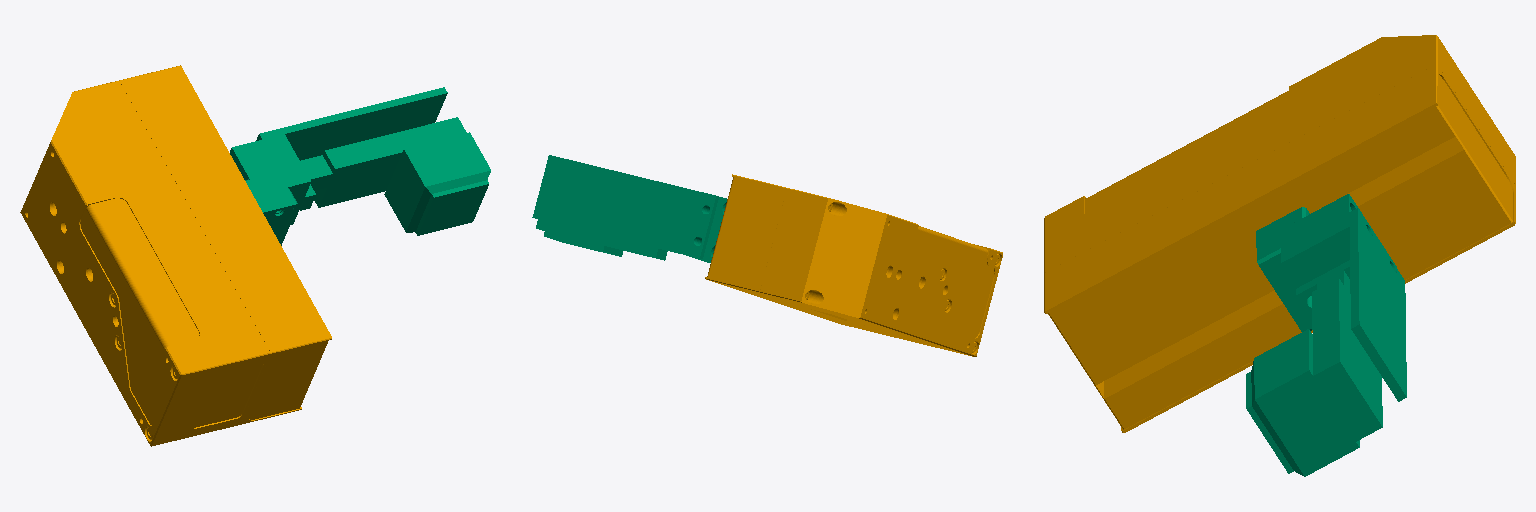
URDF robot description (IRB140):
<?xml version="1.0" ?>
<!-- =================================================================================== -->
<!-- |    This document was autogenerated by xacro from irb_140_ati_schunk_gelsight.urdf.xacro | -->
<!-- |    EDITING THIS FILE BY HAND IS NOT RECOMMENDED                                 | -->
<!-- =================================================================================== -->
<robot name="IRB140" xmlns:xacro="http://www.ros.org/wiki/xacro">
  <link name="base_link">
    <inertial>
      <origin rpy="-1.57079 0 0" xyz="-0.0820393251688425 -0.0599247343482246 0.000402028640224033"/>
      <mass value="12.409016159487"/>
      <inertia ixx="0.104502176006253" ixy="0.00734284655670482" ixz="1.00520827530156E-05" iyy="0.246486764065977" iyz="0.000843006810157312" izz="0.16727784258504"/>
    </inertial>
    <visual>
      <origin rpy="-1.57079 0 0" xyz="0 0 0"/>
      <geometry>
        <mesh filename="package://IRB140/urdf/meshes/base_link.stl"/>
      </geometry>
      <material name="">
        <color rgba="0.890196078431373 0.411764705882353 0.125490196078431 1"/>
      </material>
    </visual>
    <collision>
      <origin rpy="-1.57079 0 0" xyz="0 0 0"/>
      <geometry>
        <mesh filename="package://IRB140/urdf/meshes/base_link_chull.stl"/>
      </geometry>
    </collision>
  </link>
  <collision_filter_group name="base">
    <member link="base_link"/>
  </collision_filter_group>
  <collision_filter_group name="ignore_base">
    <member link="link_1"/>
  </collision_filter_group>
  <link name="link_1">
    <inertial>
      <origin rpy="0 0 0" xyz="0.0281052735195531 -0.263404021764231 0.0438145912936454"/>
      <mass value="16.287755696602"/>
      <inertia ixx="0.239763088891016" ixy="-0.0247090810274521" ixz="0.000698689923332581" iyy="0.215279593840589" iyz="-0.0324602456686847" izz="0.21738294278782"/>
    </inertial>
    <visual>
      <origin rpy="0 0 0" xyz="0 0.1095 0"/>
      <geometry>
        <mesh filename="package://IRB140/urdf/meshes/link1.stl"/>
      </geometry>
      <material name="">
        <color rgba="0.890196078431373 0.411764705882353 0.125490196078431 1"/>
      </material>
    </visual>
    <collision>
      <origin rpy="0 0 0" xyz="0 0.1095 0"/>
      <geometry>
        <mesh filename="package://IRB140/urdf/meshes/link1_chull.stl"/>
      </geometry>
    </collision>
  </link>
  <link name="link_2">
    <inertial>
      <origin rpy="0 0 0" xyz="0.0602722328661623 -0.550288012476887 -0.0924337165442594"/>
      <mass value="7.58037424484438"/>
      <inertia ixx="0.155736578403723" ixy="-0.0018292494088038" ixz="-0.000516100043145016" iyy="0.0449374006069967" iyz="0.0179772597993246" izz="0.131499062854069"/>
    </inertial>
    <visual>
      <origin rpy="0 0 0" xyz="-0.07 0.352 0"/>
      <geometry>
        <mesh filename="package://IRB140/urdf/meshes/link2.stl"/>
      </geometry>
      <material name="">
        <color rgba="0.890196078431373 0.411764705882353 0.125490196078431 1"/>
      </material>
    </visual>
    <collision>
      <origin rpy="0 0 0" xyz="-0.07 0.352 0"/>
      <geometry>
        <mesh filename="package://IRB140/urdf/meshes/link2_chull.stl"/>
      </geometry>
    </collision>
  </link>
  <link name="link_3">
    <inertial>
      <origin rpy="0 0 0" xyz="0.0895840773879386 -0.706321963929838 0.00750781548417993"/>
      <mass value="8.03072730997701"/>
      <inertia ixx="0.0322819185861096" ixy="0.00189304098071818" ixz="-0.00301812650515099" iyy="0.0862439596837411" iyz="0.000363121583074651" izz="0.0941344479457789"/>
    </inertial>
    <visual>
      <origin rpy="0 0 0" xyz="-0.07 0.712 0"/>
      <geometry>
        <mesh filename="package://IRB140/urdf/meshes/link3.stl"/>
      </geometry>
      <material name="">
        <color rgba="0.890196078431373 0.411764705882353 0.125490196078431 1"/>
      </material>
    </visual>
    <collision>
      <origin rpy="0 0 0" xyz="-0.07  0.712 0"/>
      <geometry>
        <mesh filename="package://IRB140/urdf/meshes/link3_chull.stl"/>
      </geometry>
    </collision>
  </link>
  <link name="link_4">
    <inertial>
      <origin rpy="0 0 0" xyz="0.381567778909365 -0.710566670346653 -0.0012125731023236"/>
      <mass value="1.7702548022269"/>
      <inertia ixx="0.00345886724545012" ixy="-5.89845314013543E-05" ixz="-0.000204665310780048" iyy="0.00814796317500158" iyz="3.05102860299544E-06" izz="0.00727417938725734"/>
    </inertial>
    <visual>
      <origin rpy="0 0 0" xyz="-0.2885 0.712 0"/>
      <geometry>
        <mesh filename="package://IRB140/urdf/meshes/link4.stl"/>
      </geometry>
      <material name="">
        <color rgba="0.890196078431373 0.411764705882353 0.125490196078431 1"/>
      </material>
    </visual>
    <collision>
      <origin rpy="0 0 0" xyz="-0.2885 0.712 0"/>
      <geometry>
        <mesh filename="package://IRB140/urdf/meshes/link4_chull.stl"/>
      </geometry>
    </collision>
  </link>
  <link name="link_5">
    <inertial>
      <origin rpy="0 0 0" xyz="0.4486171436144 -0.711838316531129 0.000617034654940496"/>
      <mass value="0.145550520315438"/>
      <inertia ixx="7.1482542749252E-05" ixy="4.08865519403599E-07" ixz="1.24002244883737E-07" iyy="6.88353185385481E-05" iyz="-1.00702333671187E-08" izz="0.000112132445217078"/>
    </inertial>
    <visual>
      <origin rpy="0 0 0" xyz="-0.450 0.712 0"/>
      <geometry>
        <mesh filename="package://IRB140/urdf/meshes/link5.stl"/>
      </geometry>
      <material name="">
        <color rgba="0.890196078431373 0.411764705882353 0.125490196078431 1"/>
      </material>
    </visual>
    <collision>
      <origin rpy="0 0 0" xyz="-0.450 0.712 0"/>
      <geometry>
        <mesh filename="package://IRB140/urdf/meshes/link5_chull.stl"/>
      </geometry>
    </collision>
  </link>
  <link name="link_6">
    <inertial>
      <origin rpy="0 0 0" xyz="0.502059432845099 -0.711774967143511 2.38785136319277E-10"/>
      <mass value="0.0258654328719498"/>
      <inertia ixx="5.9822143548355E-06" ixy="4.58244484401765E-08" ixz="-3.33091906738059E-13" iyy="6.2921914507958E-06" iyz="6.75626369217644E-13" izz="6.17479327327778E-06"/>
    </inertial>
    <visual>
      <origin rpy="0 0 0" xyz="-0.515 0.712 0"/>
      <geometry>
        <mesh filename="package://IRB140/urdf/meshes/link6.stl"/>
      </geometry>
      <material name="">
        <color rgba="0.796078431372549 0.823529411764706 0.937254901960784 1"/>
      </material>
    </visual>
    <collision>
      <origin rpy="0 0 0" xyz="-0.515 0.712 0"/>
      <geometry>
        <mesh filename="package://IRB140/urdf/meshes/link6_chull.stl"/>
      </geometry>
    </collision>
  </link>
  <joint name="joint1" type="revolute">
    <parent link="base_link"/>
    <child link="link_1"/>
    <limit effort="300" lower="-3.14159265359" upper="3.14159265359" velocity="4.36"/>
    <axis xyz="0 -1 0"/>
    <origin rpy="-1.57079 0 0" xyz="0 0 0.1095"/>
  </joint>
  <joint name="joint2" type="revolute">
    <parent link="link_1"/>
    <child link="link_2"/>
    <limit effort="300" lower="-1.57079633" upper="1.91986218" velocity="4.36"/>
    <axis xyz="0 0 1"/>
    <origin rpy="0 0 0" xyz="0.07 -0.2425 0"/>
  </joint>
  <joint name="joint3" type="revolute">
    <parent link="link_2"/>
    <child link="link_3"/>
    <limit effort="300" lower="-4.01425728" upper="0.87266463" velocity="4.36"/>
    <axis xyz="0 0 1"/>
    <origin rpy="0 0 0" xyz="0 -0.360 0"/>
  </joint>
  <joint name="joint4" type="revolute">
    <parent link="link_3"/>
    <child link="link_4"/>
    <limit effort="300" lower="-3.49065850" upper="3.49065850" velocity="5.58"/>
    <axis xyz="1 0 0"/>
    <origin rpy="0 0 0" xyz="0.2185 0 0"/>
  </joint>
  <joint name="joint5" type="revolute">
    <parent link="link_4"/>
    <child link="link_5"/>
    <limit effort="300" lower="-2.09439510" upper="2.09439510" velocity="5.58"/>
    <axis xyz="0 0 1"/>
    <origin rpy="0 0 0" xyz="0.1615 0 0"/>
  </joint>
  <joint name="joint6" type="revolute">
    <parent link="link_5"/>
    <child link="link_6"/>
    <limit effort="300" lower="-6.98131701" upper="6.98131701" velocity="7.33"/>
    <axis xyz="1 0 0"/>
    <origin rpy="0 0 0" xyz="0.065 0 0"/>
  </joint>
  <transmission name="joint1_trans" type="SimpleTransmission">
    <joint name="joint1"/>
    <actuator name="joint1_motor"/>
    <mechanicalReduction>1</mechanicalReduction>
  </transmission>
  <transmission name="joint2_trans" type="SimpleTransmission">
    <joint name="joint2"/>
    <actuator name="joint2_motor"/>
    <mechanicalReduction>1</mechanicalReduction>
  </transmission>
  <transmission name="joint3_trans" type="SimpleTransmission">
    <joint name="joint3"/>
    <actuator name="joint3_motor"/>
    <mechanicalReduction>1</mechanicalReduction>
  </transmission>
  <transmission name="joint4_trans" type="SimpleTransmission">
    <joint name="joint4"/>
    <actuator name="joint4_motor"/>
    <mechanicalReduction>1</mechanicalReduction>
  </transmission>
  <transmission name="joint5_trans" type="SimpleTransmission">
    <joint name="joint5"/>
    <actuator name="joint5_motor"/>
    <mechanicalReduction>1</mechanicalReduction>
  </transmission>
  <transmission name="joint6_trans" type="SimpleTransmission">
    <joint name="joint6"/>
    <actuator name="joint6_motor"/>
    <mechanicalReduction>1</mechanicalReduction>
  </transmission>
  <link name="ATI_sensor">
    <inertial>
      <origin rpy="0 0 0" xyz="-0.0064062 0.01873 0.011887"/>
      <mass value="0.68252"/>
      <inertia ixx="0.000615295062479599" ixy="-0.000155498855912512" ixz="4.23692762827157E-06" iyy="8.42227283334224E-06" iyz="-0.000848389613222753" izz="-8.42227283334216E-06"/>
    </inertial>
    <visual>
      <origin rpy="1.5707963267949 0 0" xyz="0 0 0"/>
      <geometry>
        <mesh filename="package://IRB140/urdf/meshes/ATI_sensor.stl"/>
      </geometry>
      <material name="">
        <color rgba="0.75294 0.75294 0.75294 1"/>
      </material>
    </visual>
    <collision>
      <origin rpy="1.5707963267949 0 0" xyz="0 0 0"/>
      <geometry>
        <mesh filename="package://IRB140/urdf/meshes/ATI_sensor_chull.stl"/>
      </geometry>
    </collision>
  </link>
  <joint name="ati_joint" type="fixed">
    <origin rpy="0.0 -2.61 -1.57079" xyz="0.00953 0 0"/>
    <parent link="link_6"/>
    <child link="ATI_sensor"/>
  </joint>
  <!-- MATERIALS -->
  <material name="Blue">
    <color rgba="0 0 1 1"/>
  </material>
  <material name="Red">
    <color rgba="1 0 0 1"/>
  </material>
  <material name="Green">
    <color rgba="0 1 0 1"/>
  </material>
  <material name="Yellow">
    <color rgba="1 1 0 1"/>
  </material>
  <material name="LightGrey">
    <color rgba="0.6 0.6 0.6 1.0"/>
  </material>
  <!-- END OF MATERIALS -->
  <!-- XACRO MACROS FOR VISUALS AND COLLISIONS -->
  <!-- END OF XACRO MACROS -->
  <link name="palm">
    <inertial>
      <origin rpy="0 0 0" xyz="0 0 0"/>
      <mass value="1"/>
      <inertia ixx="0.01" ixy="0" ixz="0" iyy="0.01" iyz="0" izz="0.01"/>
    </inertial>
    <visual>
      <geometry>
        <mesh filename="package://schunk_description/meshes/wsg_50/palm.stl"/>
      </geometry>
    </visual>
    <!-- The gripper itself -->
    <collision>
      <geometry>
        <box size="0.1453 0.0725 0.049"/>
      </geometry>
      <origin rpy="0 0 0" xyz="0.0 -0.0351 0.0"/>
    </collision>
    <!-- the larger mounting plate -->
    <collision>
      <geometry>
        <box size="0.05 0.0064 0.095"/>
      </geometry>
      <origin rpy="0 0 0" xyz="0.0 0.007 0"/>
    </collision>
  </link>
  <joint name="wsg_50_finger_left_joint" type="prismatic">
    <origin rpy="0 1.5707 0" xyz="0 -0.0719 0"/>
    <parent link="palm"/>
    <child link="wsg_50_finger_left_link"/>
    <axis xyz="0 0 -1"/>
    <!--<limit effort="10" lower="-0.001" upper="0.109" velocity="1.0"/>-->
  </joint>
  <link name="wsg_50_finger_left_link">
    <inertial>
      <origin rpy="0 0 0" xyz="0 0 0"/>
      <mass value="1"/>
      <inertia ixx="0.01" ixy="0" ixz="0" iyy="0.01" iyz="0" izz="0.01"/>
    </inertial>
    <!-- <xacro:left_finger_simple_visual/> -->
    <visual>
      <geometry>
        <mesh filename="package://schunk_description/meshes/wsg_50/finger_without_gelsight.stl"/>
        <material name="mostly_transparent">
          <color alpha="0.1" rgb="[phone redacted]"/>
        </material>
      </geometry>
    </visual>
    <collision>
      <geometry>
        <box size="0.0365 0.117 0.0122"/>
      </geometry>
      <origin rpy="0 0 0" xyz="0.003 -0.0585 -0.0056"/>
    </collision>
  </link>
  <joint name="wsg_50_finger_right_joint" type="prismatic">
    <origin rpy="3.1415 -1.5707 0" xyz="0 -0.0719 0.0"/>
    <parent link="palm"/>
    <child link="wsg_50_finger_right_link"/>
    <axis xyz="0 0 1"/>
    <!--<limit effort="10" lower="-0.001" upper="0.109" velocity="1.0"/> -->
  </joint>
  <link name="wsg_50_finger_right_link">
    <inertial>
      <origin rpy="0 0 0" xyz="0 0 0"/>
      <mass value="1"/>
      <inertia ixx="0.01" ixy="0" ixz="0" iyy="0.01" iyz="0" izz="0.01"/>
    </inertial>
    <!-- <xacro:right_finger_simple_visual/> -->
    <visual>
      <geometry>
        <mesh filename="package://schunk_description/meshes/wsg_50/finger_with_gelsight.stl"/>
      </geometry>
    </visual>
    <!-- Finger adapter and aluminum adapter block -->
    <collision>
      <geometry>
        <box size="0.03 0.0344 0.0344"/>
      </geometry>
      <origin rpy="0 0 0" xyz="0.0 0.0172 0.0172"/>
    </collision>
    <!-- Stick to gelsight box and backplate / optotrak marker mount -->
    <collision>
      <geometry>
        <box size="0.036 0.0883 0.0207"/>
      </geometry>
      <origin rpy="0 0 0" xyz="0.0 0.075 0.025"/>
    </collision>
    <!-- Gelsight box -->
    <collision>
      <geometry>
        <box size="0.0318 0.0318 0.037"/>
      </geometry>
      <origin rpy="0 0 0" xyz="-0.0055 0.1005 0.01231"/>
    </collision>
  </link>
  <!-- extensions -->
  <transmission name="wsg_50_finger_left_trans">
    <type>transmission_interface/SimpleTransmission</type>
    <joint name="wsg_50_finger_left_joint"/>
    <actuator name="wsg_50_finger_left_motor">
      <hardwareInterface>EffortJointInterface</hardwareInterface>
      <mechanicalReduction>1</mechanicalReduction>
    </actuator>
  </transmission>
  <transmission name="wsg_50_finger_right_trans">
    <type>transmission_interface/SimpleTransmission</type>
    <joint name="wsg_50_finger_right_joint"/>
    <actuator name="wsg_50_finger_right_motor">
      <hardwareInterface>EffortJointInterface</hardwareInterface>
      <mechanicalReduction>1</mechanicalReduction>
    </actuator>
  </transmission>
  <joint name="ati_joint" type="fixed">
    <origin rpy="3.1415 1.5707 0.0" xyz="0.0 0.073622 0.0"/>
    <parent link="ATI_sensor"/>
    <child link="palm"/>
  </joint>
</robot>

--- What the picture shows (computed from the rendered views, not written in the file) ---
3 views of the same robot in one strip: view 1: azimuth 30°, elevation 25°; view 2: azimuth 150°, elevation 25°; view 3: azimuth 270°, elevation 25° (orthographic).
Model IRB140 with 11 links and 10 joints (6 revolute, 2 prismatic, 2 fixed), rooted at base_link, posed all joints at 0.
Visible links, largest first — view 1: palm, wsg_50_finger_right_link; view 2: palm, wsg_50_finger_right_link; view 3: palm, wsg_50_finger_right_link.
Link boxes in pixels (x1,y1,x2,y2): palm: [20, 65, 331, 446]; wsg_50_finger_right_link: [230, 87, 490, 245]; palm: [705, 174, 1002, 356]; wsg_50_finger_right_link: [532, 155, 726, 262]; palm: [1044, 35, 1515, 432]; wsg_50_finger_right_link: [1246, 194, 1406, 476].
Size in the robot's own frame: 0.1873 by 0.1508 by 0.1167 metres.
2 mesh visuals loaded from 11 distinct referenced files (2 binary STL); not drawn: 9 (reference not matched to a file when rendering).